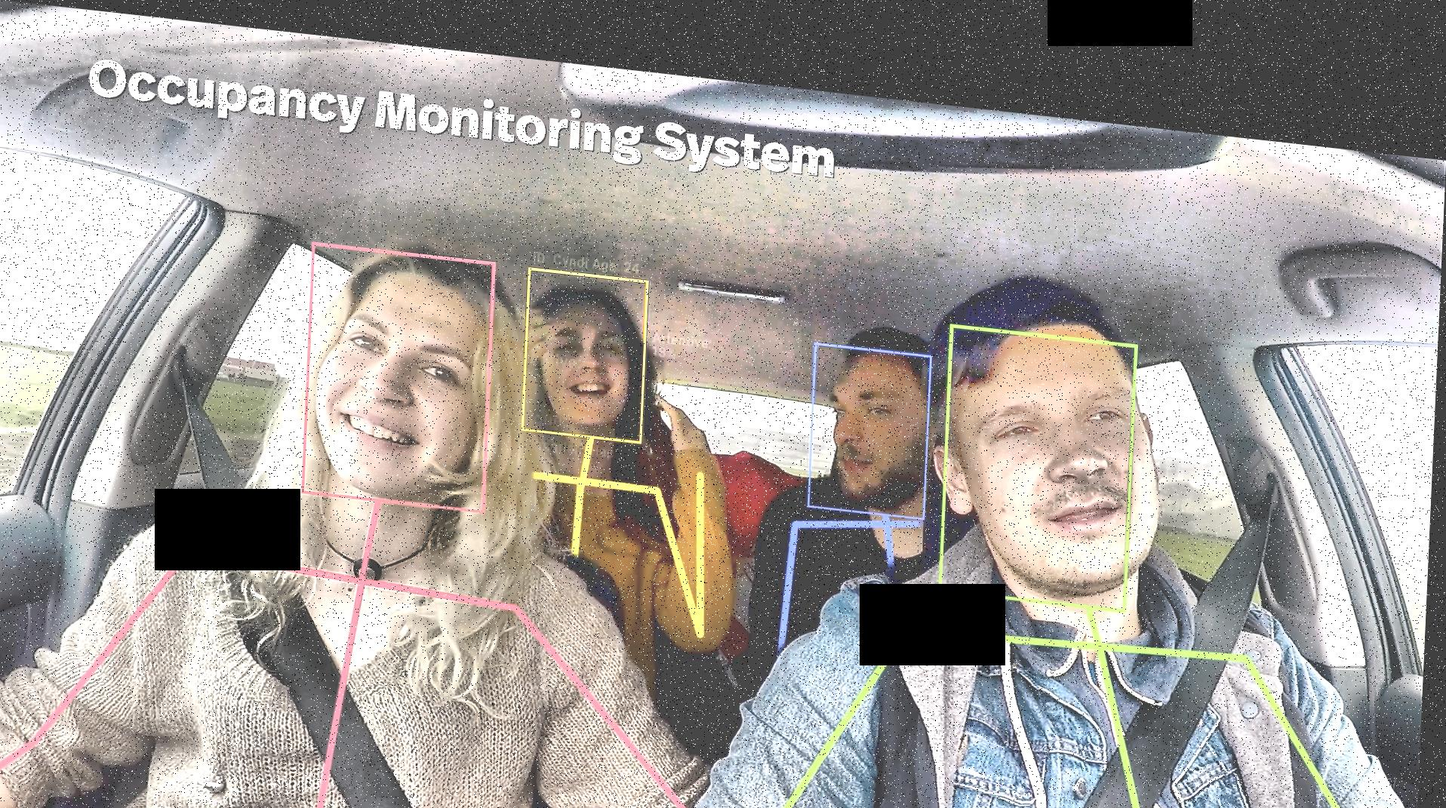seatbelt: (146, 349, 465, 808), (998, 416, 1310, 808)
